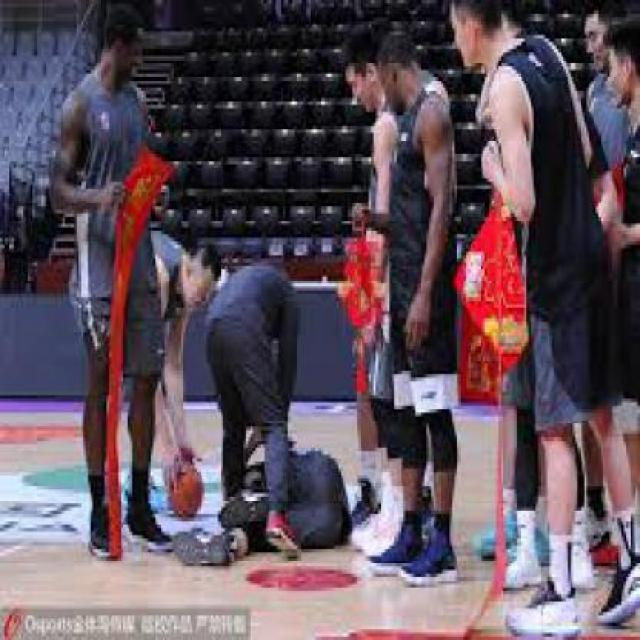fall: (164, 420, 356, 555)
